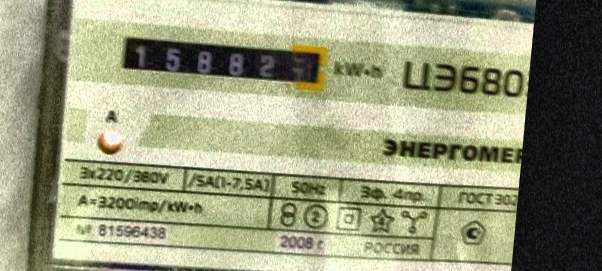1: (133, 42, 150, 69)
2: (259, 51, 277, 78)
5: (164, 45, 182, 72)
7: (290, 64, 305, 81)
8: (195, 48, 214, 74), (227, 49, 245, 75)
screen: (108, 20, 339, 101)
